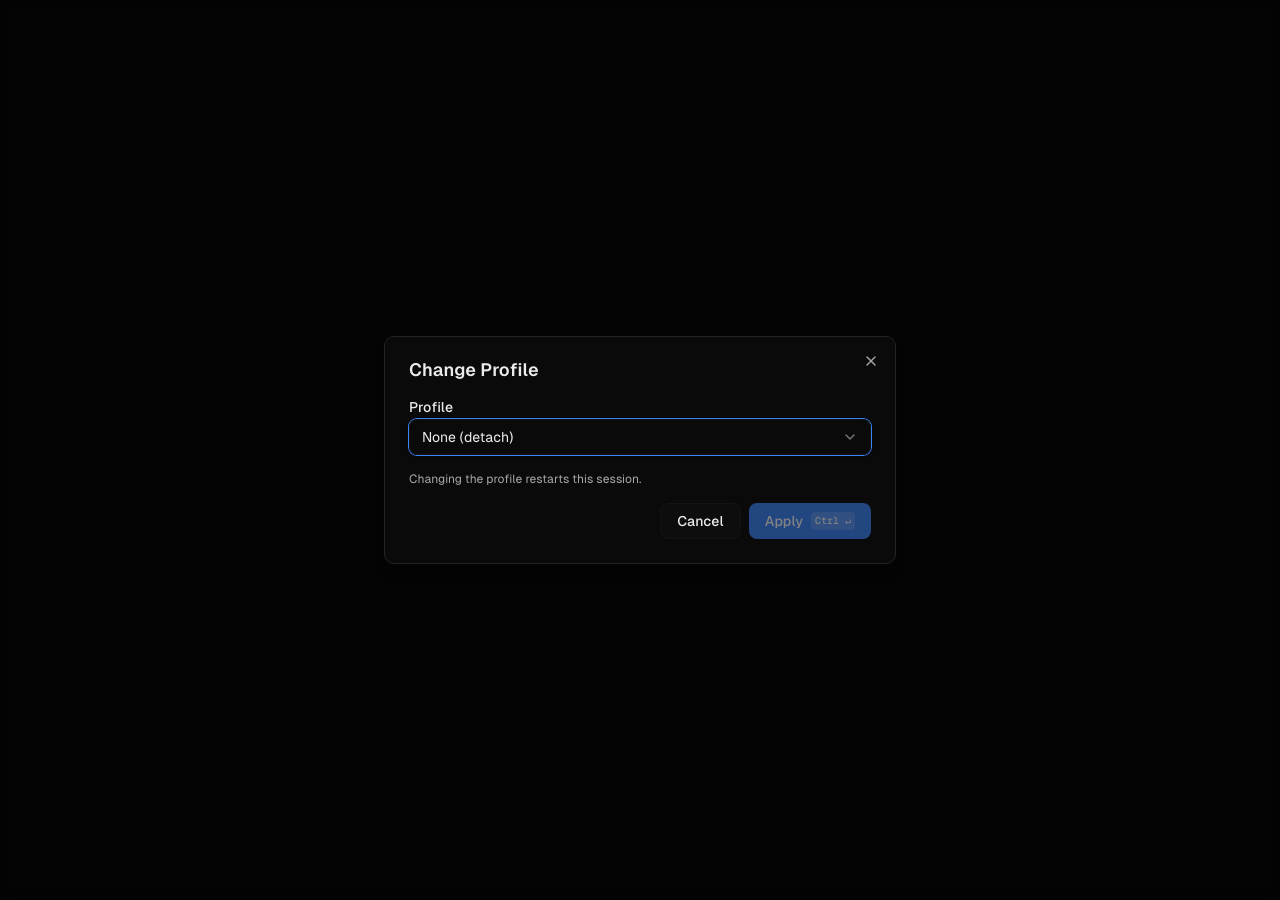
Test: ChangeProfileDialog keyboard submit › renders the dockerized badge for a dockerized profile
Expected: the dialog is shown, [384,336,896,564]
# Open the dropdown so the profile options (and their badges) render.
Click the dropdown at (468, 437), box [409,419,871,455]
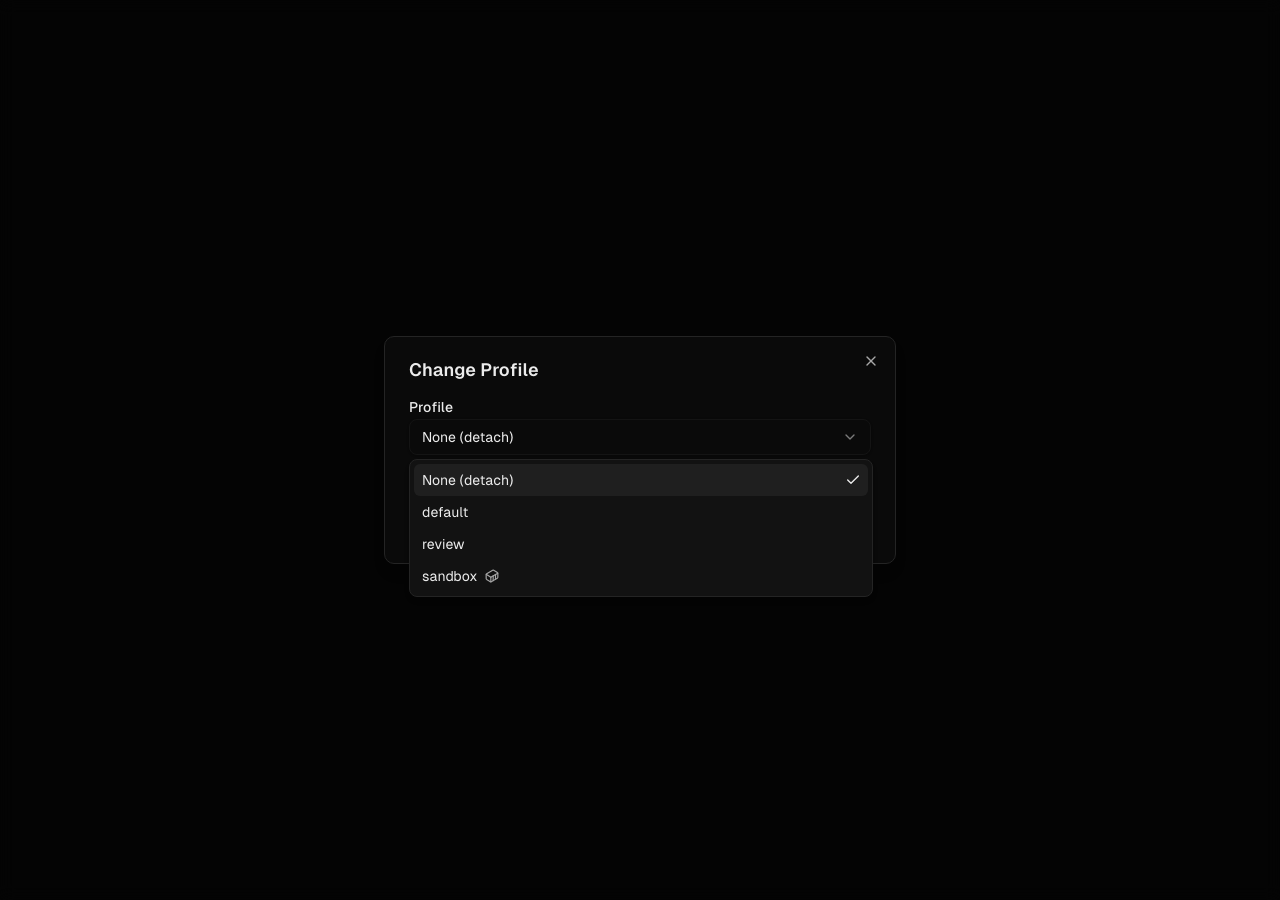
Expected: the option "sandbox" is shown, [422,568,499,584]
Expected: the picture named "dockerized" is shown, [485,569,499,583]
